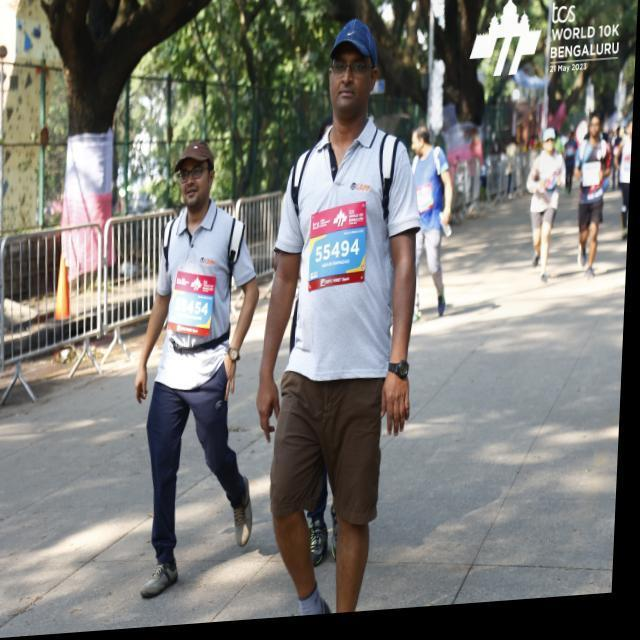dorsal: (310, 213, 371, 294), (174, 270, 221, 346)
